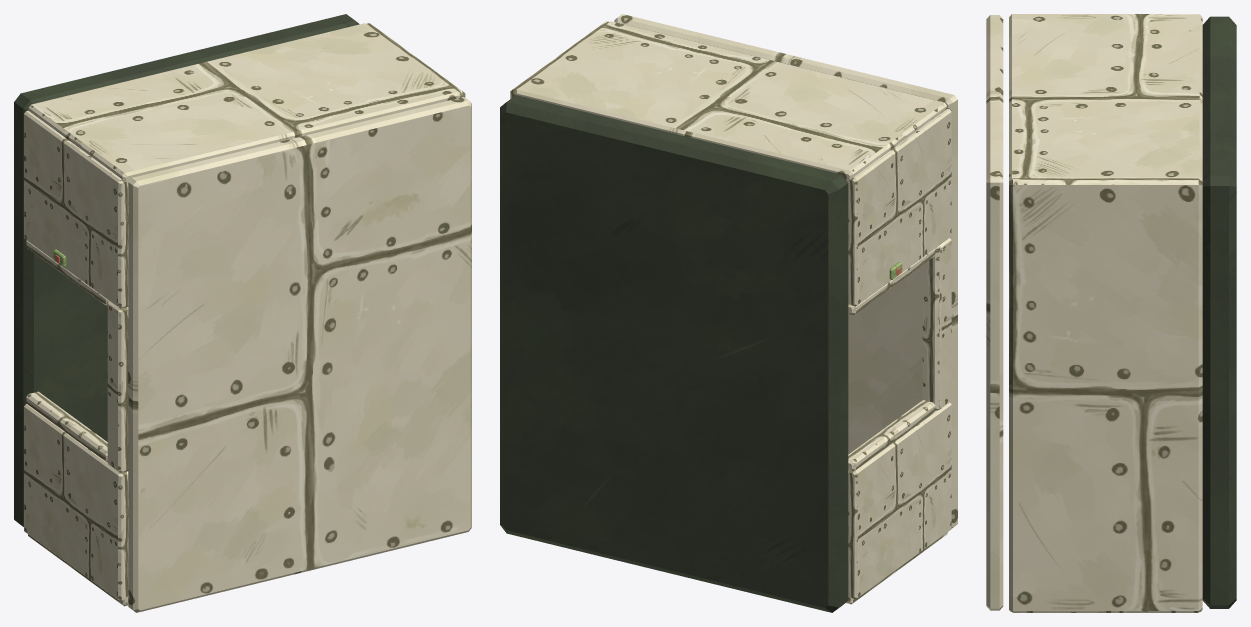
Rendered from ECHO7_10_Carga_Esclusa.obj.
3 views of the same model, side by side, from view 1: azimuth 30°, elevation 25°; view 2: azimuth 150°, elevation 25°; view 3: azimuth 270°, elevation 25° (orthographic).
Parts seen in each view (by area): view 1: ECHO7_10_Carga_Esclusa__Techo_carga_01, ECHO7_10_Carga_Esclusa__Pared_carga_01, ECHO7_10_Carga_Esclusa__Suelo_carga_01, ECHO7_10_Carga_Esclusa__Frente_carga_01, ECHO7_10_Carga_Esclusa__Frente_carga_02, ECHO7_10_Carga_Esclusa__Dintel_carga_01, ECHO7_10_Carga_Esclusa__Jamba_puerta_01, ECHO7_10_Carga_Esclusa__Jamba_puerta_02; view 2: ECHO7_10_Carga_Esclusa__Suelo_carga_01, ECHO7_10_Carga_Esclusa__Pared_carga_01, ECHO7_10_Carga_Esclusa__Techo_carga_01, ECHO7_10_Carga_Esclusa__Frente_carga_02, ECHO7_10_Carga_Esclusa__Frente_carga_01, ECHO7_10_Carga_Esclusa__Dintel_puerta_01, ECHO7_10_Carga_Esclusa__Dintel_carga_01, ECHO7_10_Carga_Esclusa__Jamba_puerta_01, ECHO7_10_Carga_Esclusa__Jamba_puerta_02; view 3: ECHO7_10_Carga_Esclusa__Mamparo_reactor_01, ECHO7_10_Carga_Esclusa__Pared_carga_01, ECHO7_10_Carga_Esclusa__Suelo_carga_01, ECHO7_10_Carga_Esclusa__Techo_carga_01.
Boxes of the visible parts, x1,y1,x2,y2 form: ECHO7_10_Carga_Esclusa__Techo_carga_01: (128,97,471,612); ECHO7_10_Carga_Esclusa__Pared_carga_01: (28,23,459,182); ECHO7_10_Carga_Esclusa__Suelo_carga_01: (14,14,359,526); ECHO7_10_Carga_Esclusa__Frente_carga_01: (24,404,128,601); ECHO7_10_Carga_Esclusa__Frente_carga_02: (24,110,128,308); ECHO7_10_Carga_Esclusa__Dintel_carga_01: (108,301,128,472); ECHO7_10_Carga_Esclusa__Jamba_puerta_01: (26,391,107,462); ECHO7_10_Carga_Esclusa__Jamba_puerta_02: (26,240,108,306); ECHO7_10_Carga_Esclusa__Suelo_carga_01: (500,95,848,612); ECHO7_10_Carga_Esclusa__Pared_carga_01: (515,21,946,180); ECHO7_10_Carga_Esclusa__Techo_carga_01: (614,14,957,528); ECHO7_10_Carga_Esclusa__Frente_carga_02: (846,108,951,306); ECHO7_10_Carga_Esclusa__Frente_carga_01: (848,402,951,599); ECHO7_10_Carga_Esclusa__Dintel_puerta_01: (922,246,940,410); ECHO7_10_Carga_Esclusa__Dintel_carga_01: (939,238,951,409); ECHO7_10_Carga_Esclusa__Jamba_puerta_01: (848,400,935,470); ECHO7_10_Carga_Esclusa__Jamba_puerta_02: (848,249,935,315); ECHO7_10_Carga_Esclusa__Mamparo_reactor_01: (1009,178,1202,612); ECHO7_10_Carga_Esclusa__Pared_carga_01: (1009,14,1202,181); ECHO7_10_Carga_Esclusa__Suelo_carga_01: (1202,16,1236,608); ECHO7_10_Carga_Esclusa__Techo_carga_01: (986,15,1003,610).
Bounding box in the file's own units: 7.18 × 8.42 × 4.4.
4 materials, 4 textured.
